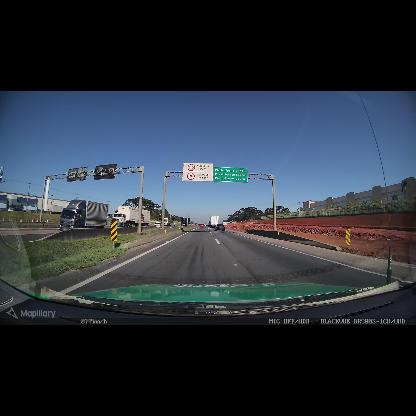O-MP: (111, 221, 117, 241), (346, 229, 351, 246)
R-19: (182, 163, 213, 182)
